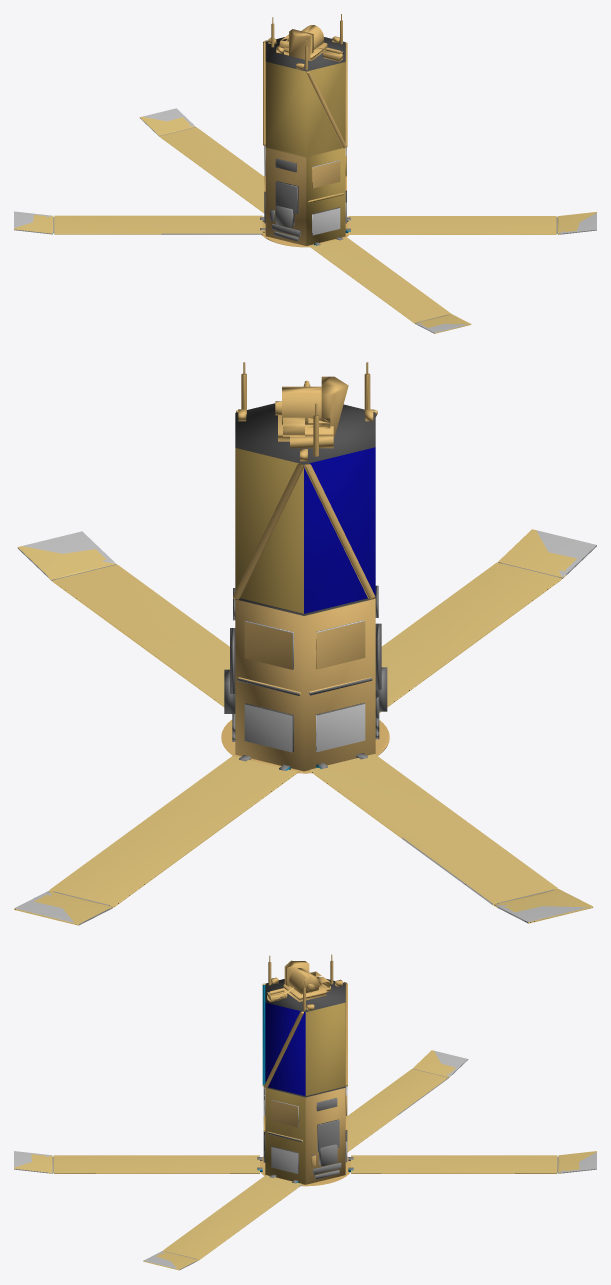
Rendered from SeaStar.glb.
3 renders of one model, top to bottom at view 1: azimuth 30°, elevation 25°; view 2: azimuth 150°, elevation 25°; view 3: azimuth 270°, elevation 25°, orthographic. The views are drawn at different scales.
Parts seen in each view (by area): view 1: Fake; view 2: Fake; view 3: Fake.
Part boxes in pixels (left/top/right/bottom): Fake: left=14, top=14, right=596, bottom=333; Fake: left=14, top=362, right=596, bottom=925; Fake: left=14, top=954, right=596, bottom=1270.
Bounding box in the file's own units: 195 × 83.7 × 219.
